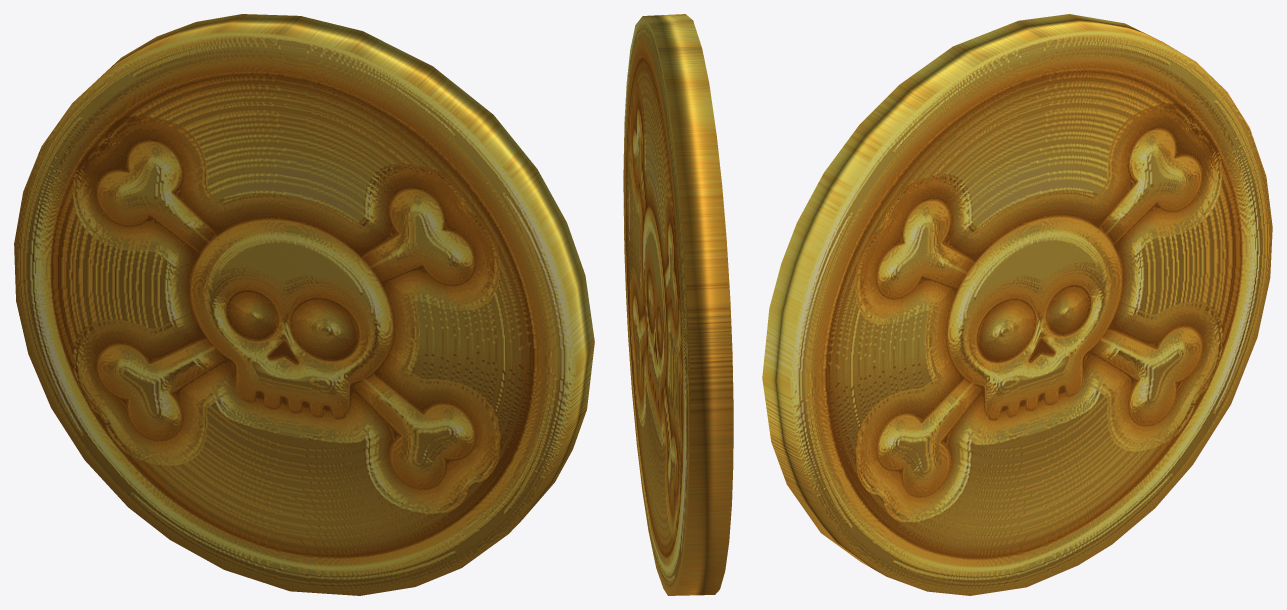
File: Coin5.glb
3 views of the same model, side by side, from view 1: azimuth 30°, elevation 25°; view 2: azimuth 150°, elevation 25°; view 3: azimuth 270°, elevation 25° (orthographic). The views are drawn at different scales.
Visible parts, largest first — view 1: Cylinder.003; view 2: Cylinder.003; view 3: Cylinder.003.
Part boxes in pixels (bbox=[...]): Cylinder.003: bbox=[14, 14, 594, 595]; Cylinder.003: bbox=[623, 14, 733, 595]; Cylinder.003: bbox=[762, 14, 1272, 595].
Size of what is drawn, in the model's own units: 1 by 1.53 by 1.29.
1 material, 1 textured.
